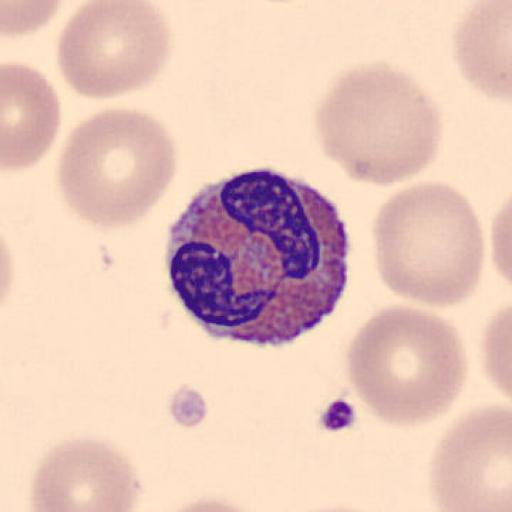RBC: (313, 59, 444, 189), (344, 303, 470, 429), (56, 104, 180, 232), (372, 178, 486, 308), (56, 1, 172, 101), (24, 433, 145, 512), (426, 403, 512, 511), (2, 61, 62, 175), (451, 0, 512, 103), (479, 302, 512, 400), (1, 0, 64, 38), (142, 495, 273, 512), (490, 196, 512, 292), (274, 503, 402, 512)
WBC: (164, 168, 352, 347)
